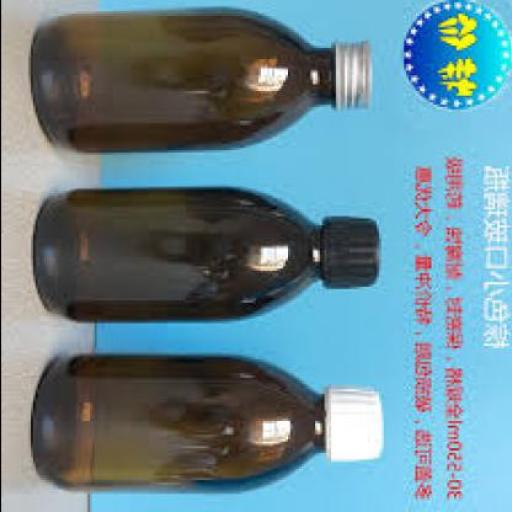glass: (30, 9, 334, 157), (32, 355, 325, 494), (34, 191, 320, 328)
metal: (337, 43, 376, 112)
plastic: (326, 389, 384, 466), (319, 219, 380, 291)
